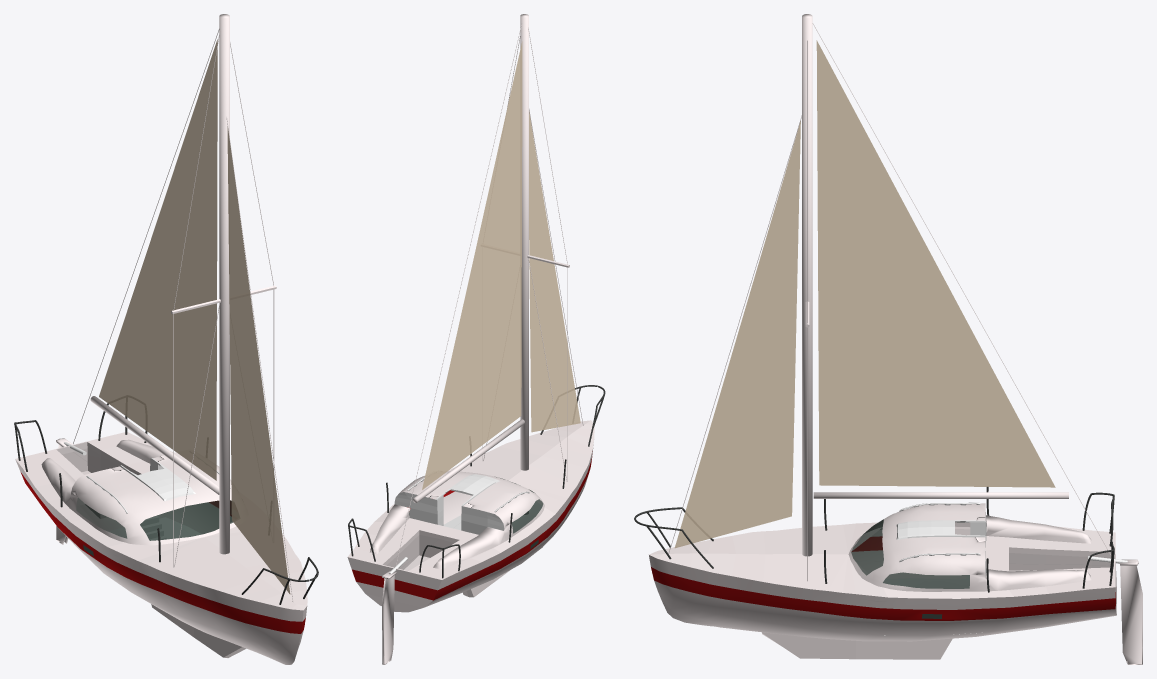
File: boat.obj
3 renders of one model, left to right at view 1: azimuth 30°, elevation 25°; view 2: azimuth 150°, elevation 25°; view 3: azimuth 270°, elevation 25°, orthographic. The views are drawn at different scales.
Parts seen in each view (by area): view 1: SailMain_Plane.002, Hull_Cube, Deck_Plane, SailJib_Plane.001, Cabin_Cabin11, MastMain_Cylinder, Stays1_Cylinder.002, Cover_Cabin11.001, Boom_Cylinder.001, HandRails_Mesh, Cabin2, Stays2_Cylinder.003 (+1 smaller); view 2: SailMain_Plane.002, Deck_Plane, SailJib_Plane.001, Cabin_Cabin11, Hull_Cube, MastMain_Cylinder, Cabin2, Rudder, HandRails_Mesh, Stays1_Cylinder.002, Stays2_Cylinder.003, Boom_Cylinder.001 (+1 smaller); view 3: SailMain_Plane.002, SailJib_Plane.001, Hull_Cube, Deck_Plane, Cabin_Cabin11, MastMain_Cylinder, Keel_Cube.001, Rudder, Boom_Cylinder.001, HandRails_Mesh, Cover_Cabin11.001, Stays2_Cylinder.003 (+1 smaller).
Part boxes in pixels (x1,y1,x2,y2): SailMain_Plane.002: [99, 39, 217, 480]; Hull_Cube: [15, 459, 307, 664]; Deck_Plane: [15, 432, 307, 610]; SailJib_Plane.001: [227, 127, 290, 594]; Cabin_Cabin11: [41, 439, 236, 545]; MastMain_Cylinder: [219, 14, 229, 554]; Stays1_Cylinder.002: [171, 30, 276, 567]; Cover_Cabin11.001: [120, 458, 195, 501]; Boom_Cylinder.001: [90, 396, 219, 494]; HandRails_Mesh: [14, 403, 318, 604]; Cabin2: [108, 459, 201, 589]; Stays2_Cylinder.003: [73, 29, 293, 602]; SailMain_Plane.002: [422, 41, 522, 489]; Deck_Plane: [347, 420, 594, 612]; SailJib_Plane.001: [529, 111, 580, 432]; Cabin_Cabin11: [370, 471, 544, 569]; Hull_Cube: [407, 445, 593, 607]; MastMain_Cylinder: [520, 14, 528, 514]; Cabin2: [394, 492, 542, 551]; Rudder: [382, 557, 407, 664]; HandRails_Mesh: [348, 385, 605, 578]; Stays1_Cylinder.002: [482, 27, 569, 481]; Stays2_Cylinder.003: [396, 23, 583, 565]; Boom_Cylinder.001: [413, 419, 524, 503]; SailMain_Plane.002: [816, 40, 1055, 487]; SailJib_Plane.001: [674, 120, 800, 548]; Hull_Cube: [649, 526, 1116, 641]; Deck_Plane: [649, 522, 1116, 614]; Cabin_Cabin11: [848, 502, 1091, 591]; MastMain_Cylinder: [802, 14, 812, 556]; Keel_Cube.001: [762, 632, 952, 659]; Rudder: [1088, 556, 1142, 664]; Boom_Cylinder.001: [813, 492, 1068, 498]; HandRails_Mesh: [634, 487, 1114, 592]; Cover_Cabin11.001: [896, 520, 985, 539]; Stays2_Cylinder.003: [668, 23, 1111, 555].
Bounding box in the file's own units: 1.88 × 7.33 × 5.22.
